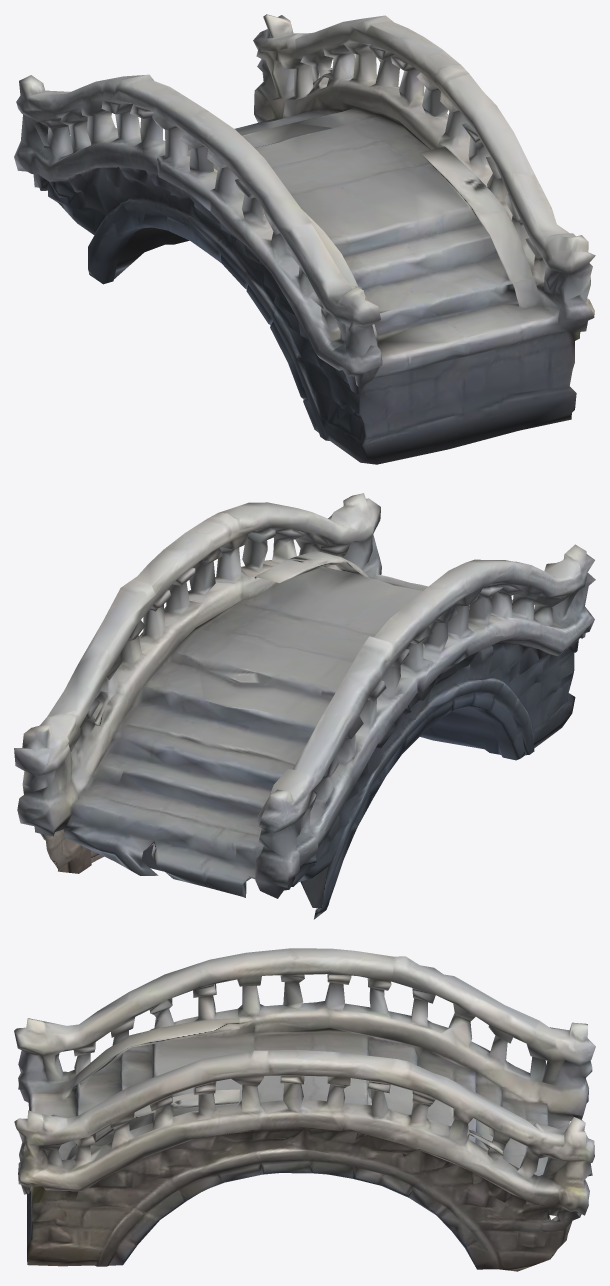
File: bridge.glb
The picture shows the model from 3 angles, top to bottom: view 1: azimuth 30°, elevation 25°; view 2: azimuth 150°, elevation 25°; view 3: azimuth 270°, elevation 25°; orthographic projection. The views are drawn at different scales.
Visible parts, largest first — view 1: tripo_node_f430722f-1458-4893-9486-ae6df7da489e; view 2: tripo_node_f430722f-1458-4893-9486-ae6df7da489e; view 3: tripo_node_f430722f-1458-4893-9486-ae6df7da489e.
Boxes of the visible parts, x1,y1,x2,y2 form: tripo_node_f430722f-1458-4893-9486-ae6df7da489e: [14, 14, 595, 464]; tripo_node_f430722f-1458-4893-9486-ae6df7da489e: [14, 493, 595, 919]; tripo_node_f430722f-1458-4893-9486-ae6df7da489e: [14, 948, 595, 1271].
Size of the model in its own units: 1.37 by 1.2 by 2.86.
Materials: 1 (1 with a texture image).
